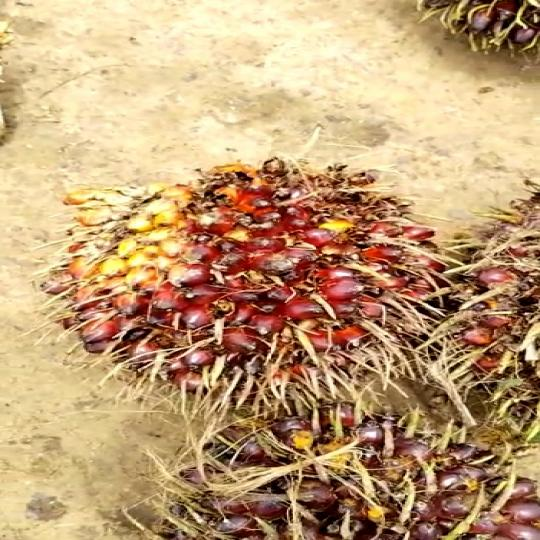masak: (56, 150, 482, 408)
